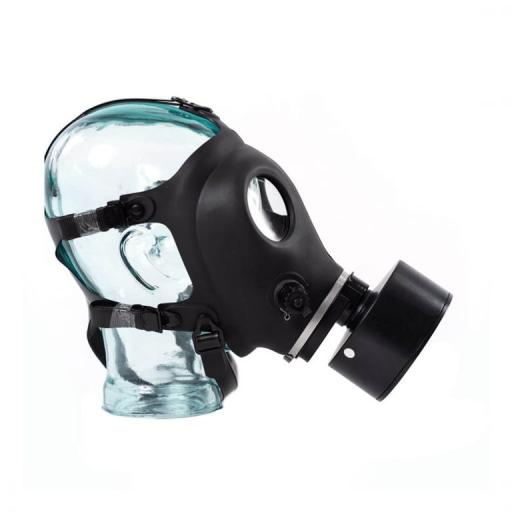mask: (214, 120, 466, 414)
